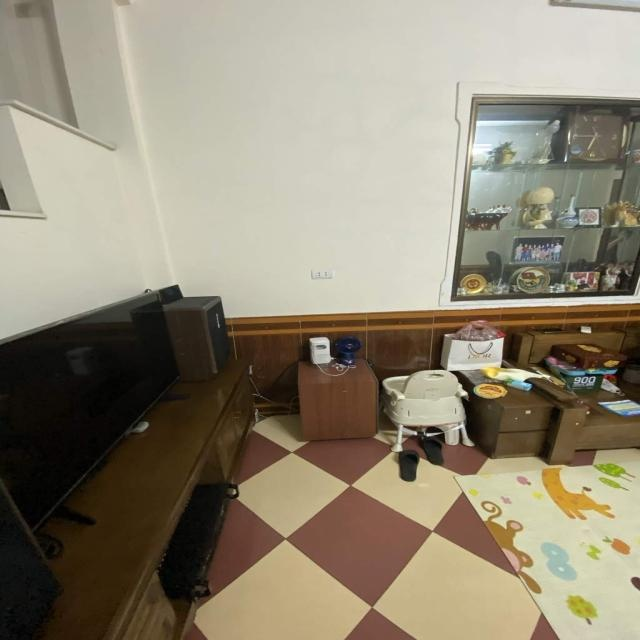outlet: (311, 269, 333, 280)
